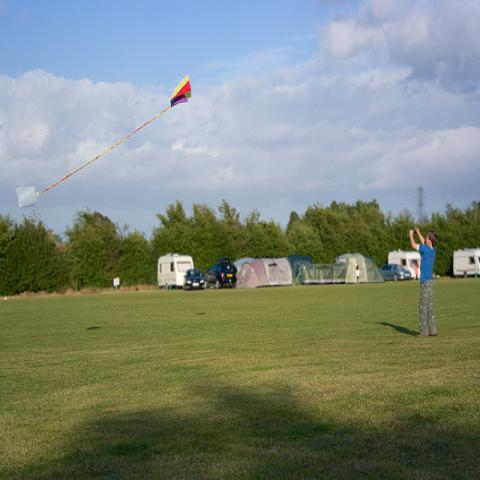car: (204, 258, 237, 290), (379, 264, 411, 280), (184, 268, 205, 290)
truck: (157, 256, 195, 290), (388, 250, 422, 281), (452, 246, 480, 280)
